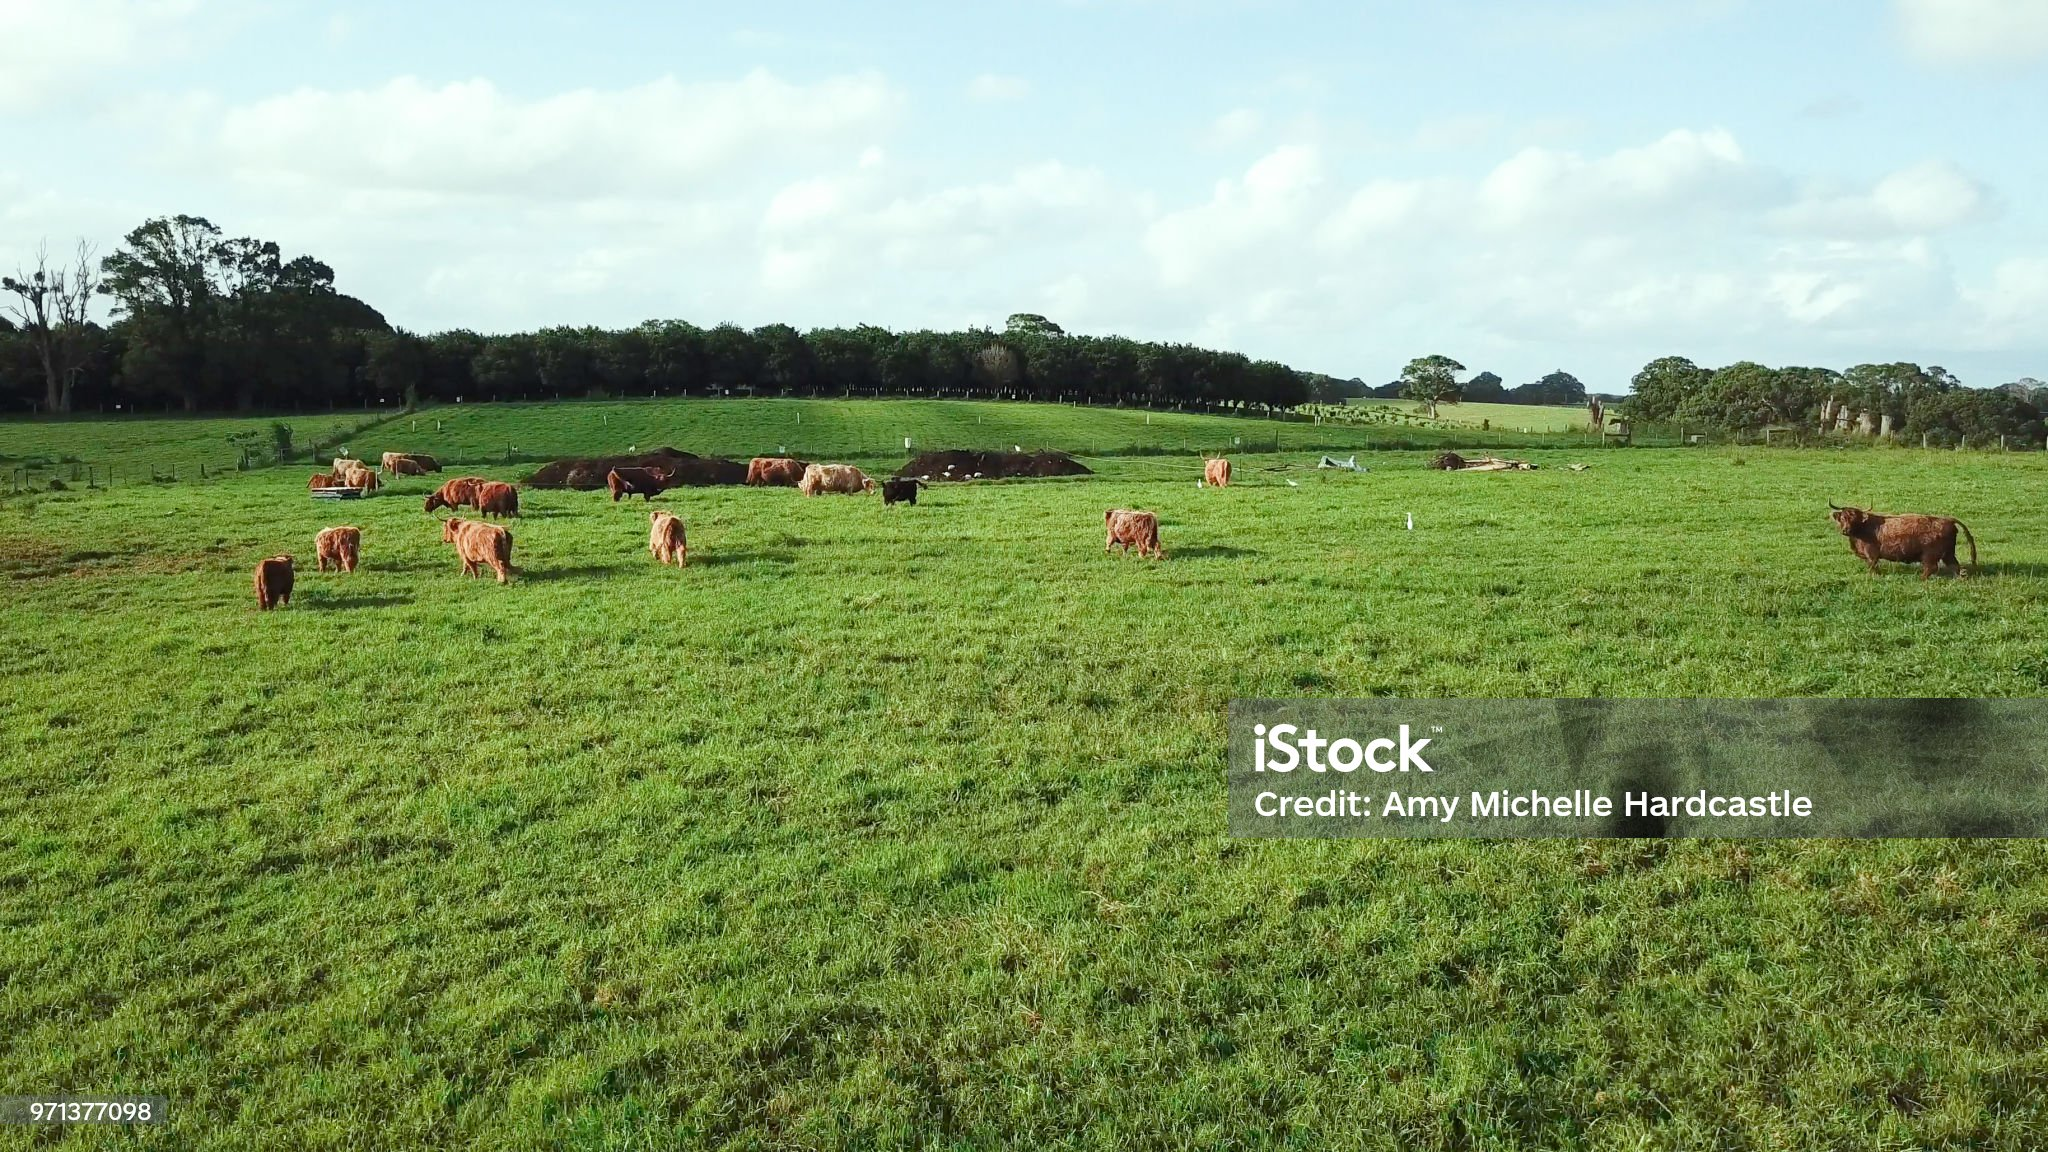cattle: (1820, 487, 1989, 591), (442, 515, 515, 582), (1094, 498, 1165, 565), (236, 553, 305, 610), (603, 460, 677, 506), (798, 463, 876, 505), (309, 522, 367, 578), (639, 511, 693, 565), (423, 474, 484, 515), (748, 454, 806, 497), (1189, 447, 1239, 491), (473, 481, 520, 519), (879, 475, 927, 512), (301, 471, 339, 499), (401, 452, 444, 474), (345, 467, 380, 492), (331, 456, 364, 475), (390, 460, 423, 480), (378, 450, 409, 470)
